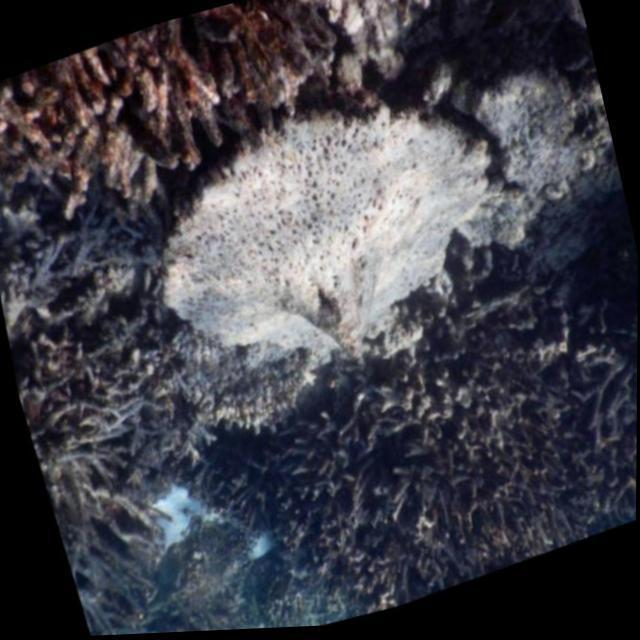Dead Coral: (187, 273, 639, 634), (0, 209, 247, 640)
